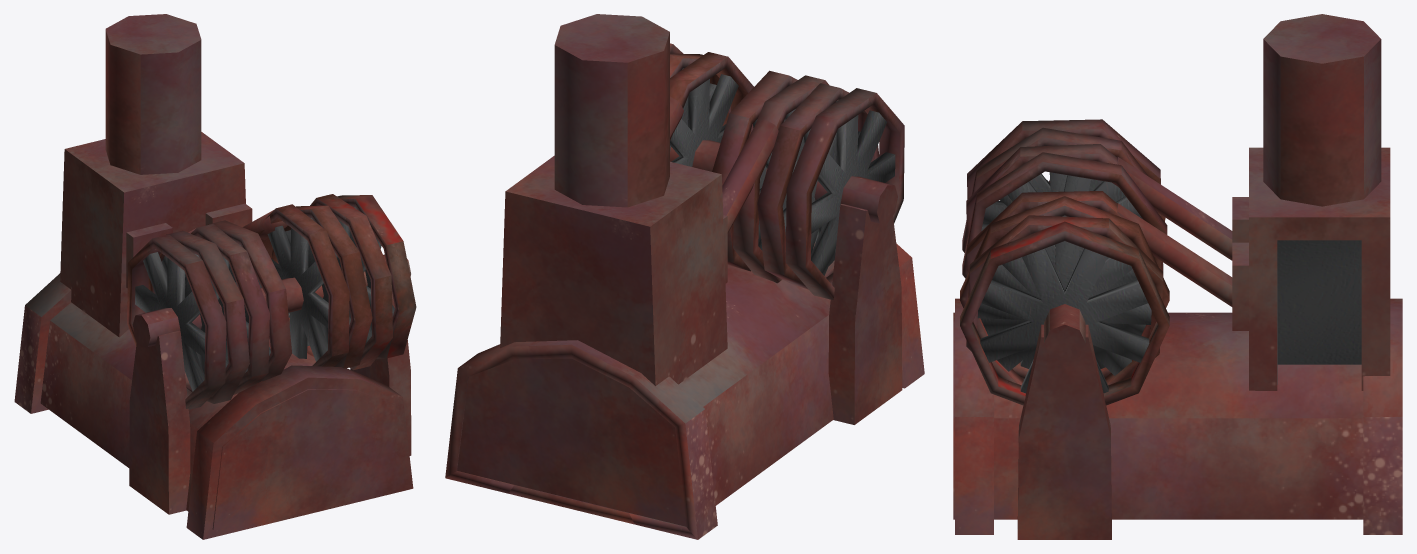
Rendered from engine.obj.
3 renders of one model, left to right at view 1: azimuth 30°, elevation 25°; view 2: azimuth 150°, elevation 25°; view 3: azimuth 270°, elevation 25°, orthographic. The views are drawn at different scales.
Parts seen in each view (by area): view 1: Cube.024; view 2: Cube.024; view 3: Cube.024.
Boxes of the visible parts, x1,y1,x2,y2 form: Cube.024: (14,14,416,539); Cube.024: (445,14,924,539); Cube.024: (953,14,1402,539).
Size of the model in its own units: 2.73 by 3.67 by 3.43.
3 materials, 3 textured.
